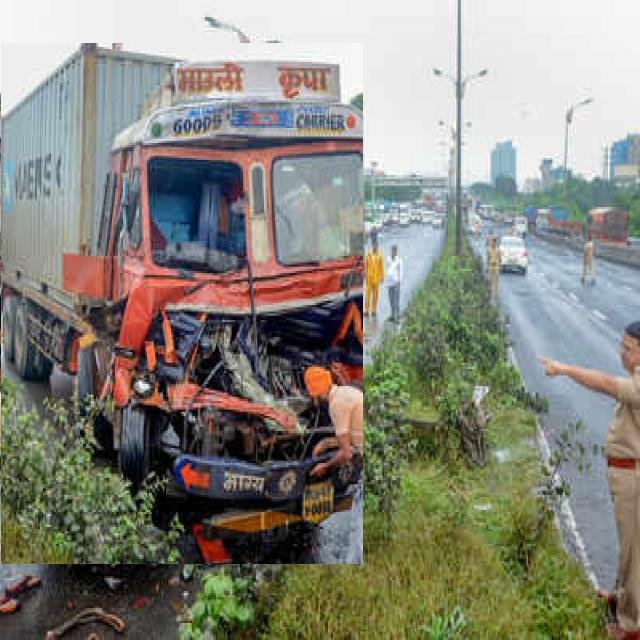accident: (1, 44, 362, 564)
